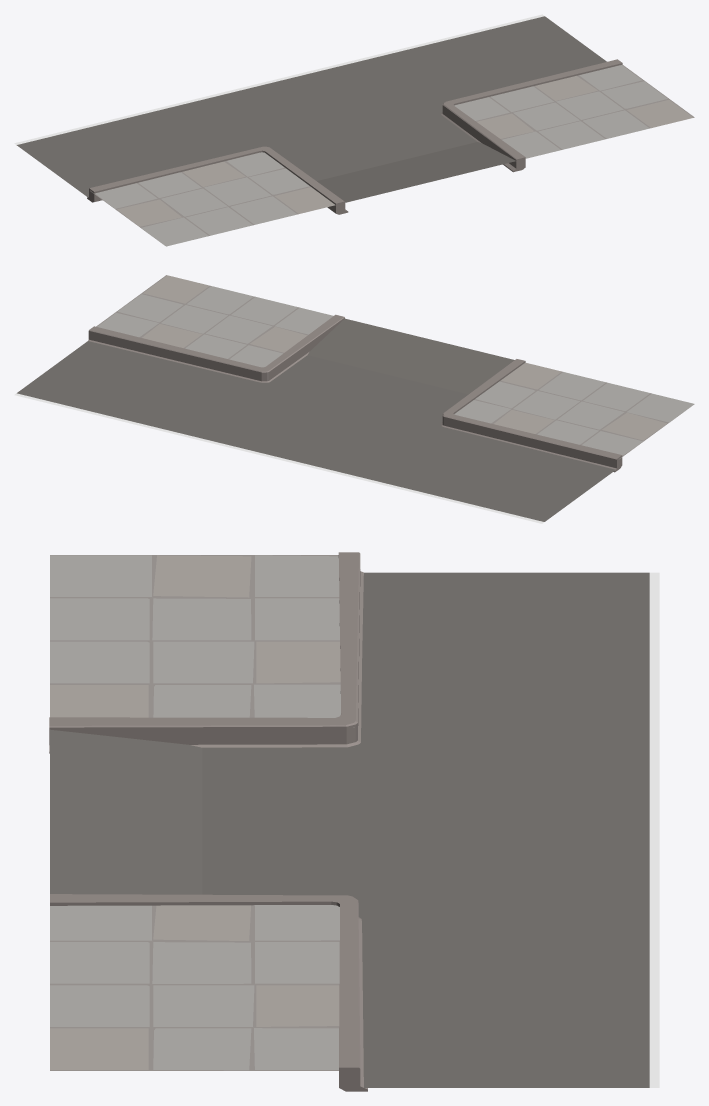
Rendered from Road_08.fbx.
3 renders of one model, top to bottom at view 1: azimuth 30°, elevation 25°; view 2: azimuth 150°, elevation 25°; view 3: azimuth 270°, elevation 25°, orthographic. The views are drawn at different scales.
Parts seen in each view (by area): view 1: Road_08; view 2: Road_08; view 3: Road_08.
Part boxes in pixels (x1,y1,x2,y2): Road_08: [14, 14, 694, 246]; Road_08: [14, 275, 694, 523]; Road_08: [49, 552, 659, 1091].
Bounding box in the file's own units: 24.02 × 0.5208 × 12.01.
